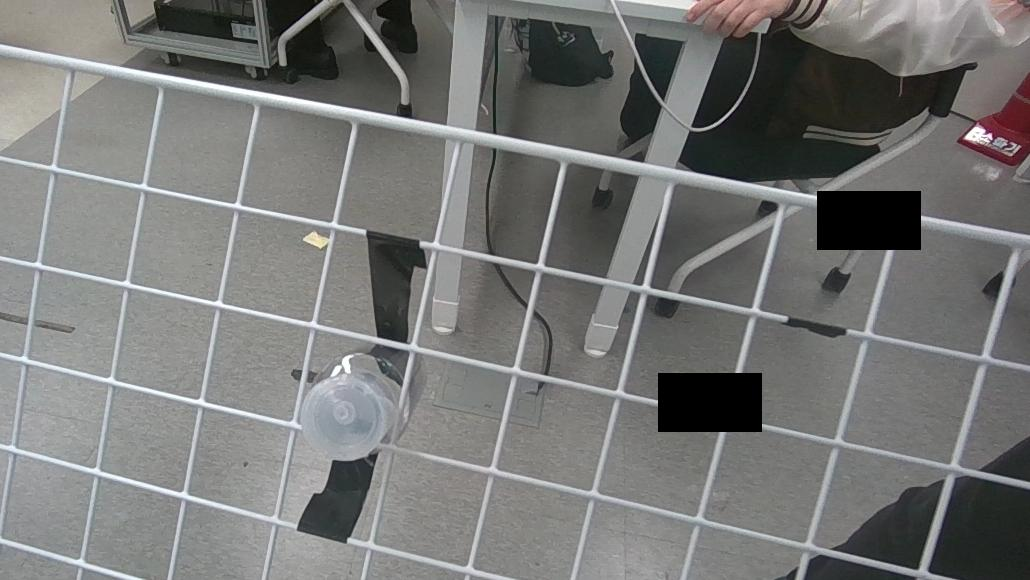Cap: (295, 374, 385, 461)
